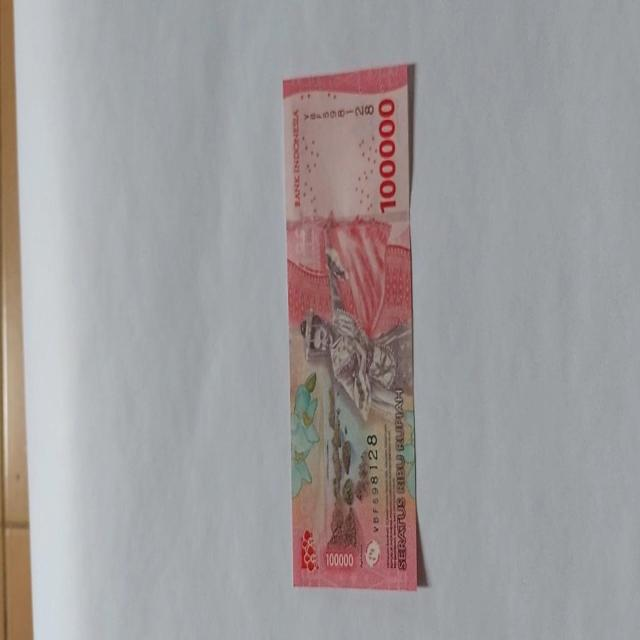Kertas: (283, 63, 417, 590)
